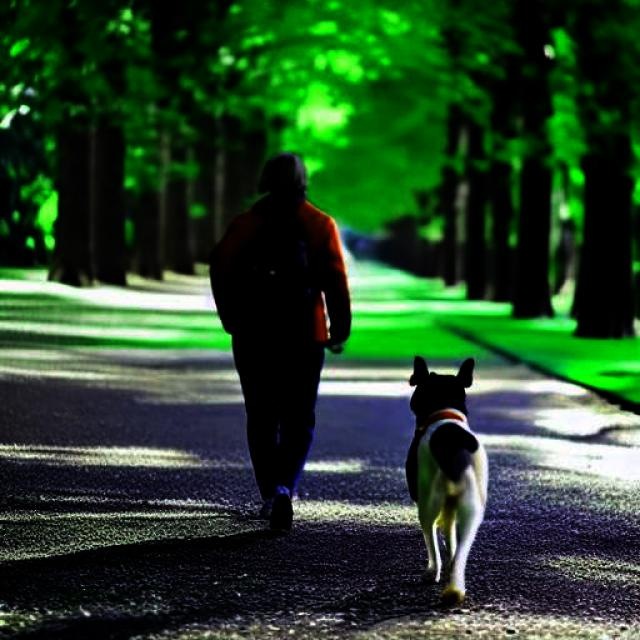Unleashed_Dog: (233, 348, 488, 606)
